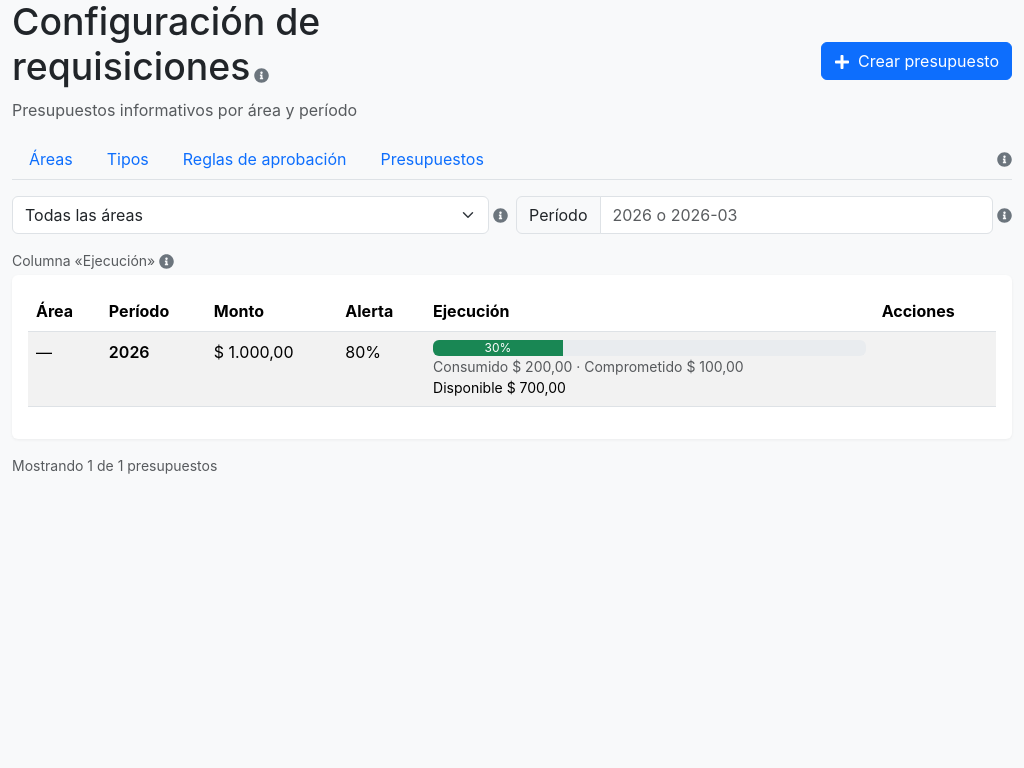
Configuration pages help hints › Presupuestos: title, filters, execution column and the budget form fields
Expected: the button named "Ayuda: Presupuestos por área" is shown, x1=254 y1=66 x2=269 y2=83
Expected: the button named "Ayuda: Filtrar por área" is shown, x1=493 y1=206 x2=508 y2=223
Step 1. Click the button "Crear presupuesto" → [917, 61], box x1=821 y1=42 x2=1012 y2=80
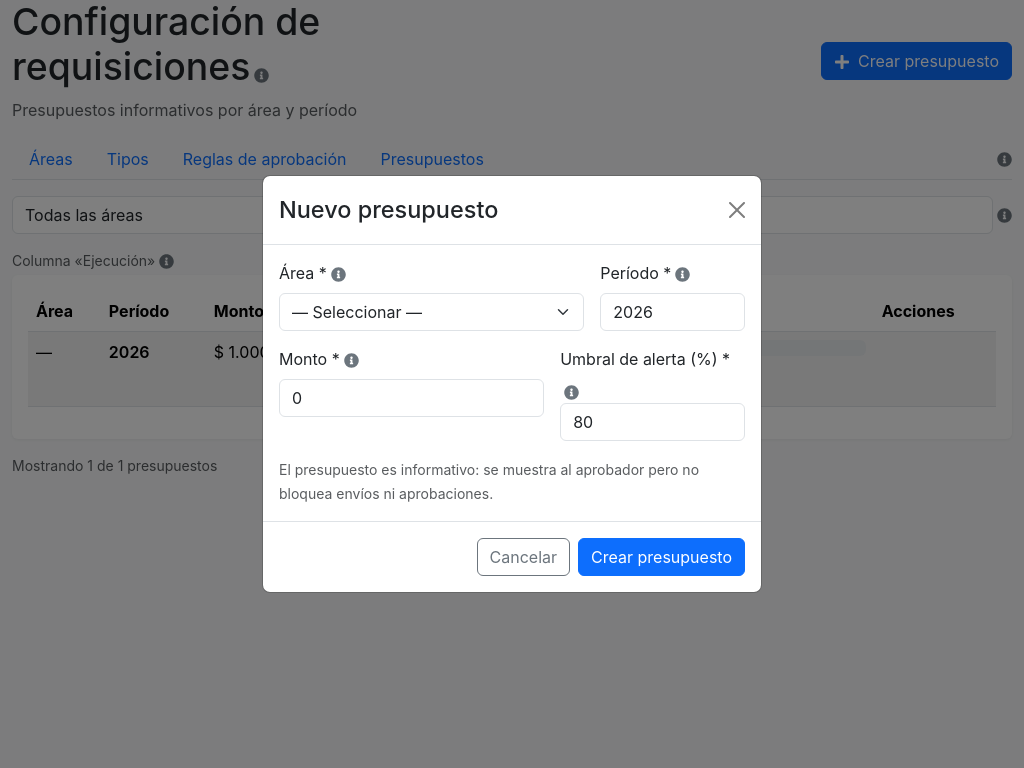
Now the number field labelled "Monto *" is shown, box x1=279 y1=379 x2=544 y2=417
Now the button named "Ayuda: Área del presupuesto" is shown, box x1=331 y1=265 x2=346 y2=282
Now the button named "Ayuda: Período" is shown, box x1=675 y1=265 x2=690 y2=282
